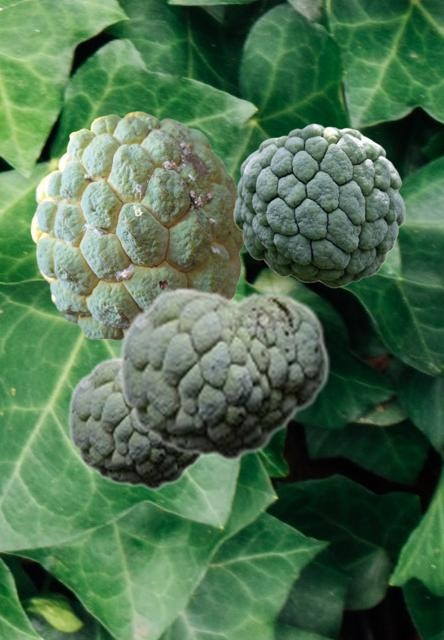atis: (30, 111, 243, 342), (118, 286, 329, 461), (233, 123, 404, 287), (67, 356, 205, 490)
